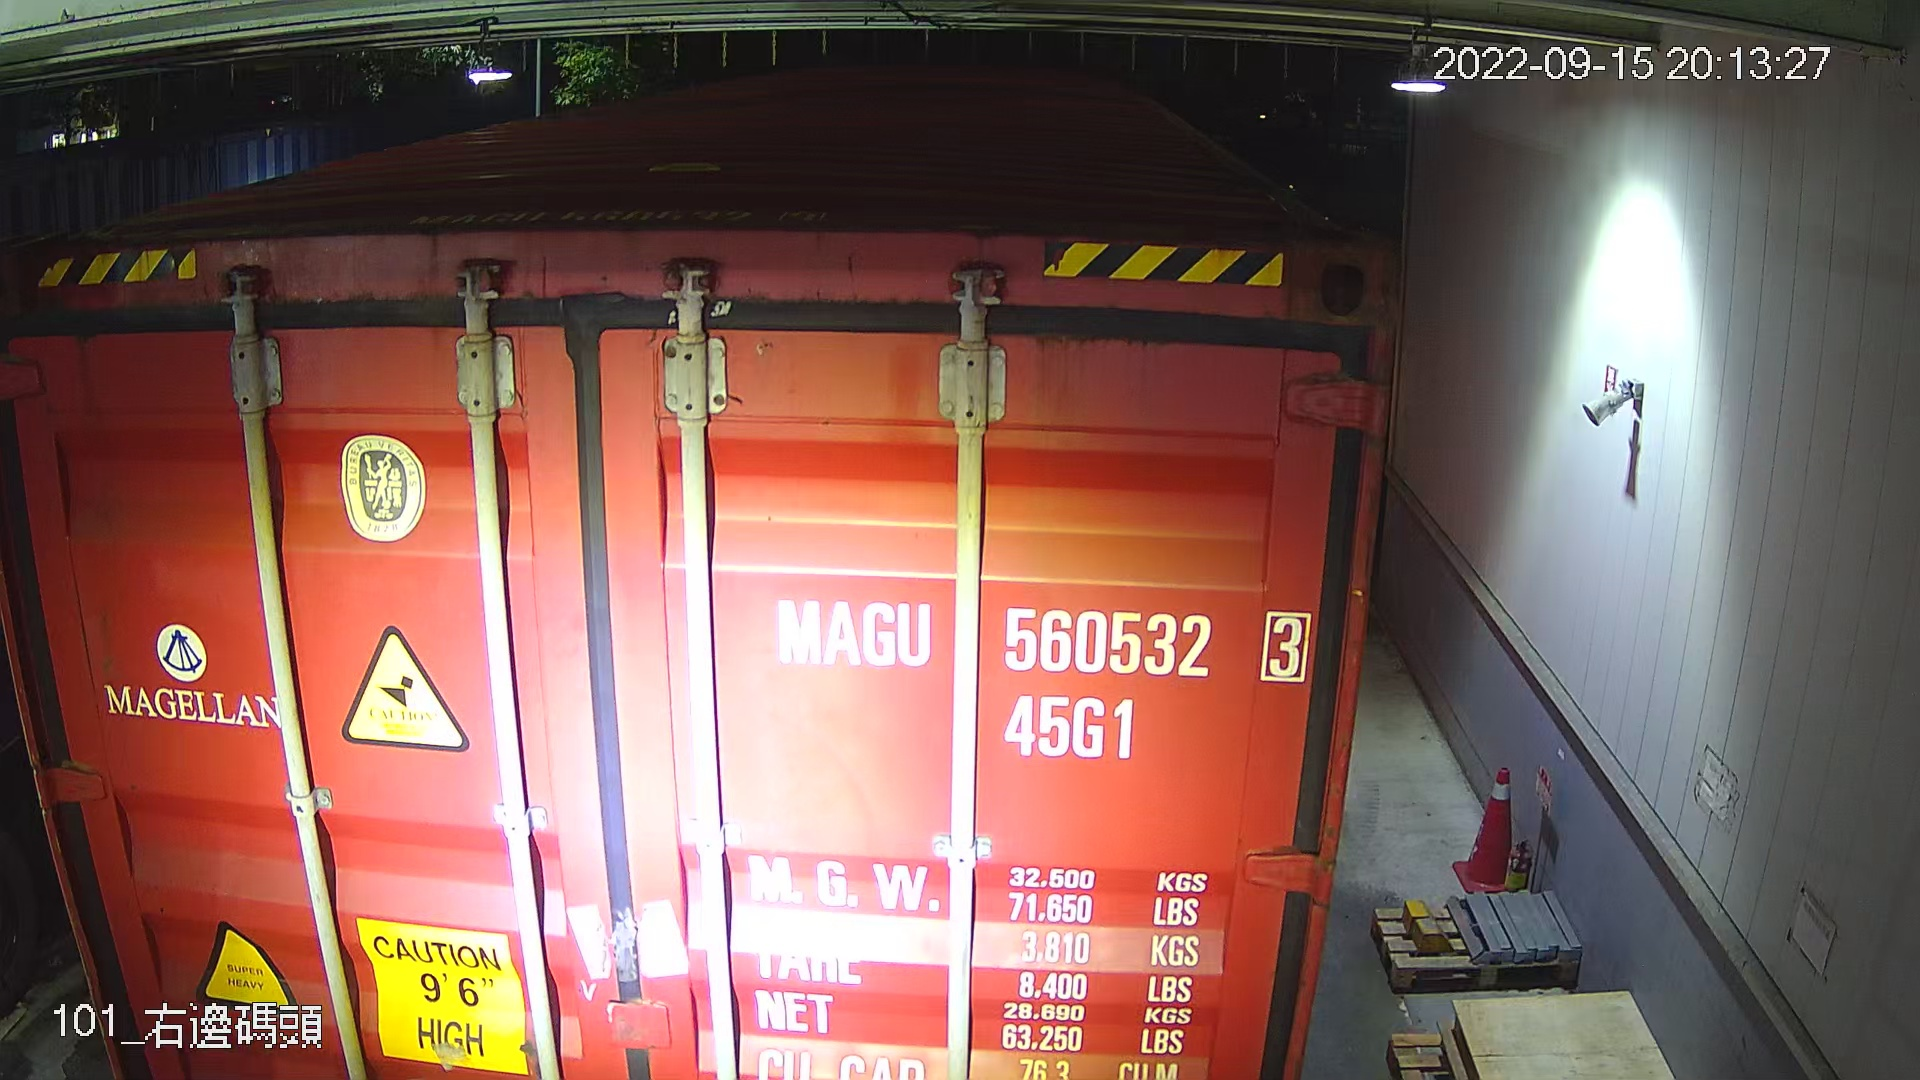container: (742, 579, 1332, 766)
